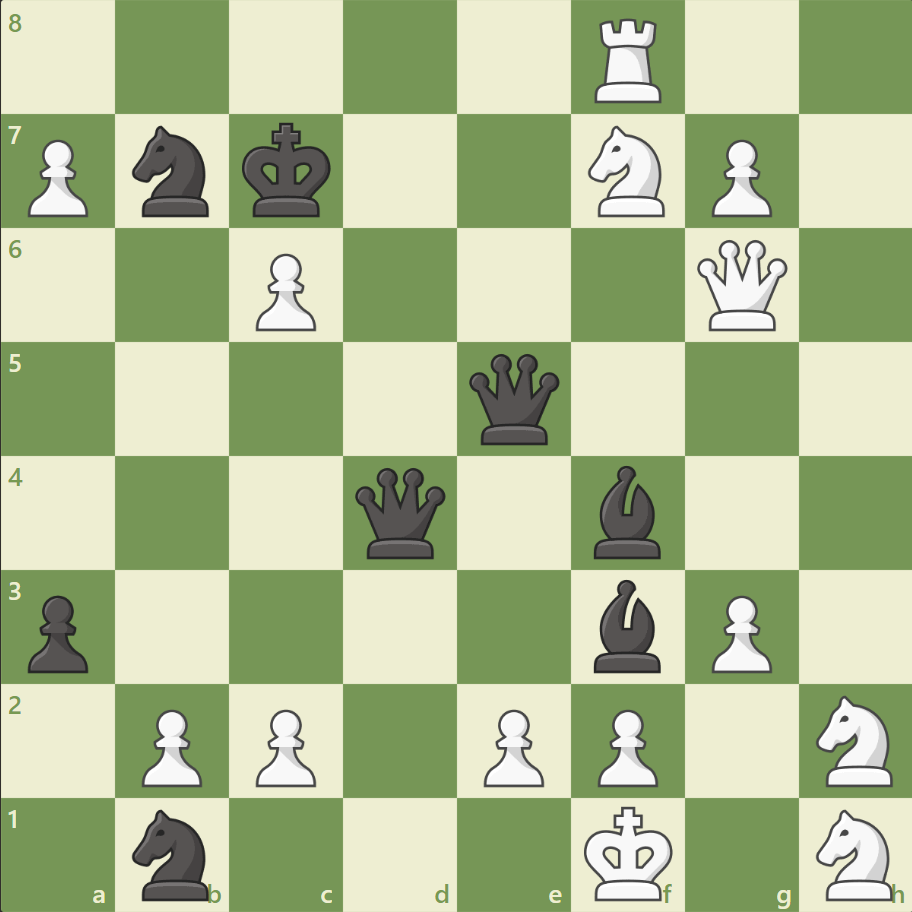K: (579, 798, 679, 906)
N: (806, 688, 903, 791), (579, 121, 676, 223), (806, 802, 903, 904)
P: (20, 132, 95, 223), (701, 132, 776, 223), (247, 246, 322, 337), (701, 586, 776, 677), (133, 700, 208, 791), (247, 700, 322, 791), (474, 700, 549, 791), (588, 700, 662, 791)
Q: (691, 236, 790, 335)
R: (587, 12, 670, 109)
b: (585, 460, 669, 563), (585, 574, 669, 676)
k: (238, 117, 338, 225)
n: (124, 121, 222, 223), (124, 802, 222, 904)
p: (20, 586, 95, 677)
q: (464, 349, 563, 449), (351, 463, 450, 562)
